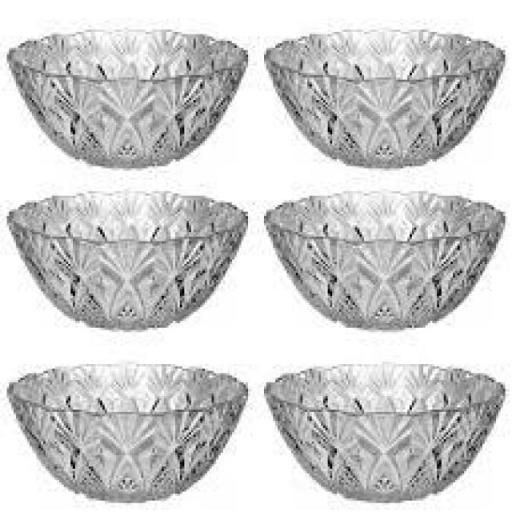glass: (6, 29, 248, 166), (6, 190, 246, 328), (8, 364, 248, 502), (268, 192, 506, 328), (265, 30, 503, 166), (264, 365, 501, 501)
